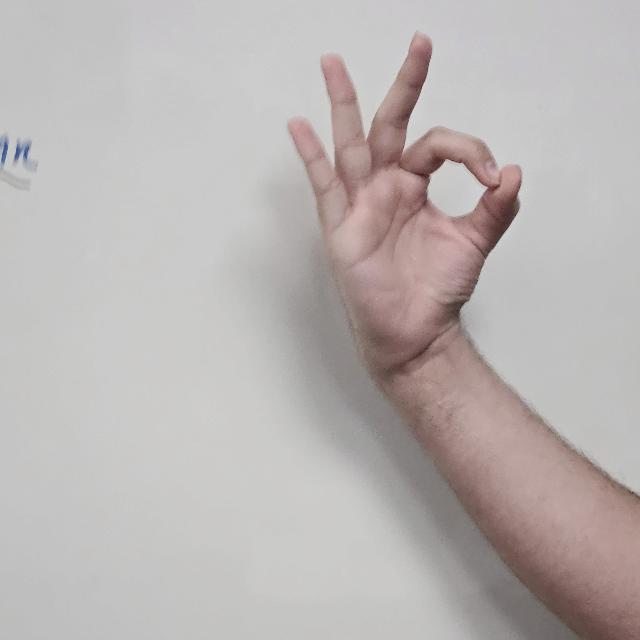Bolinha: (273, 22, 561, 448)
